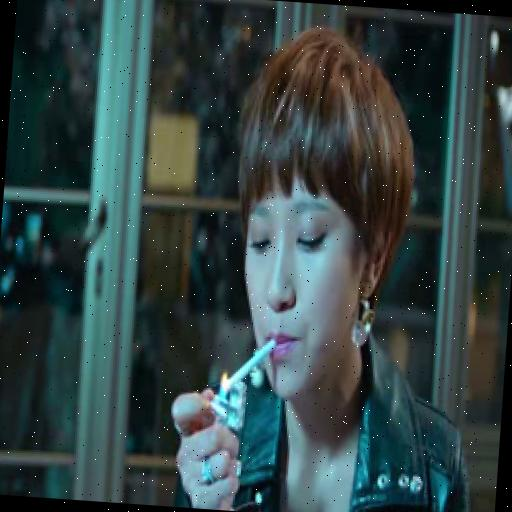dataset-deteksi-merokok: (171, 209, 320, 426)
